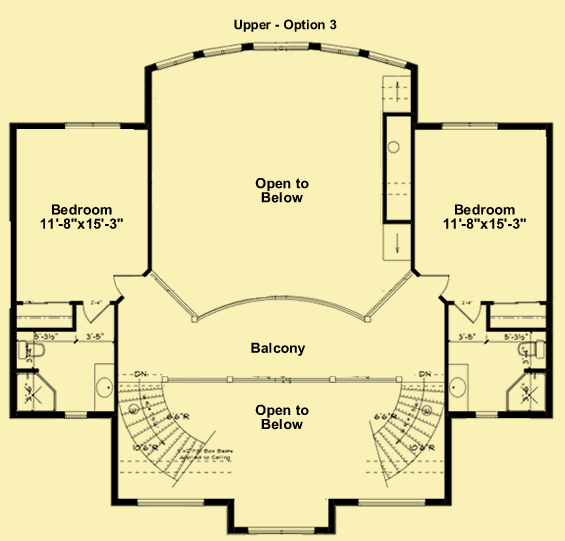door: (450, 299, 485, 326), (111, 272, 144, 300), (418, 272, 453, 296), (78, 301, 111, 323)
large_sink: (13, 336, 48, 365), (515, 337, 547, 359)
small_sink: (445, 363, 471, 415), (92, 362, 113, 412)
stairs: (116, 372, 213, 481), (371, 376, 443, 478)
window: (153, 40, 409, 71), (246, 525, 318, 538), (133, 494, 204, 507), (354, 497, 429, 508), (63, 122, 122, 133), (439, 120, 498, 130)
